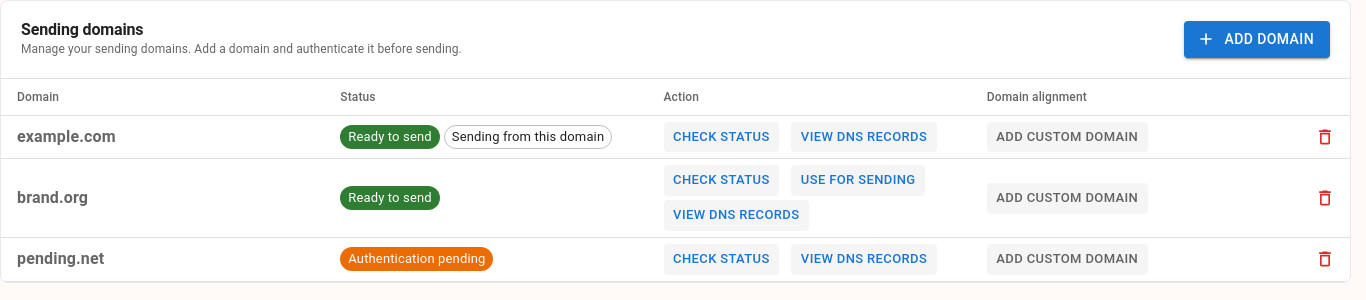
Test case: Manual DNS setup › shows which domain sends and switches the sender to another ready domain
Expected: the text "Sending from this domain" is shown, 445,128 -> 611,146
Click the button "Use for sending": (858,181) 791,165 -> 925,196
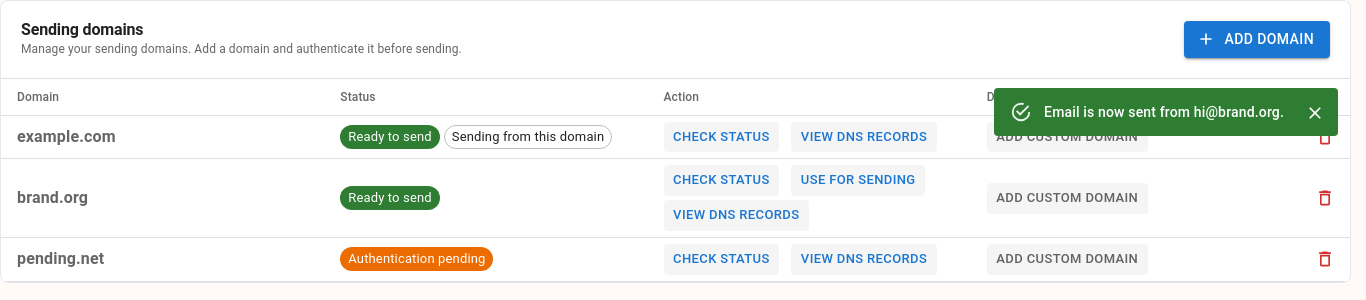
Now the text "Email is now sent from hi@brand.org." is shown, box 1044,104 -> 1284,120
